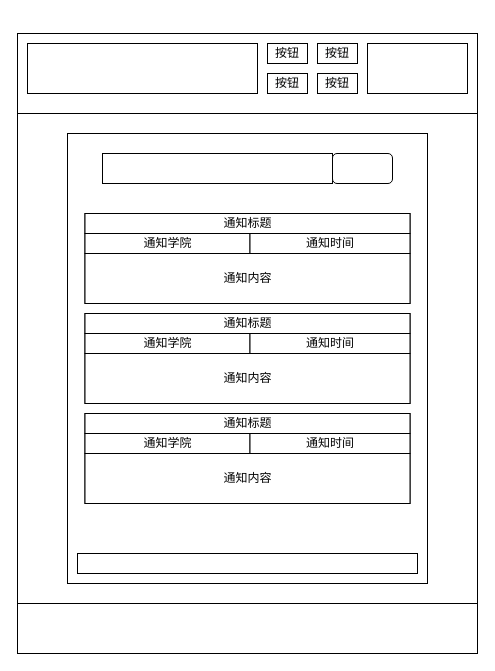
Image size: 495x671. Some labels were removed from this diagram. The centre of each missing label's shape, as x and y in pixels:
底部导航栏&联系发邮件: the point at 247,628
当前登录学生信息显示（跳转主页）: the point at 417,68
搜索: the point at 362,168
网站标题（文字+图片）: the point at 142,68
